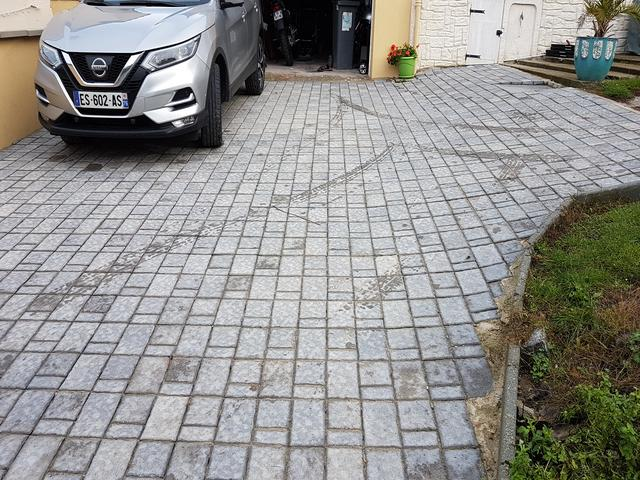Quashquai: (62, 84, 138, 114)
